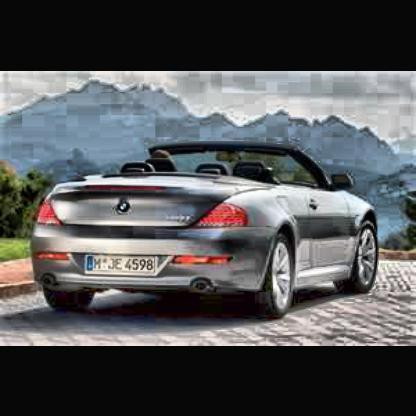BMW 6 Series Convertible 2007: (31, 139, 383, 322)
